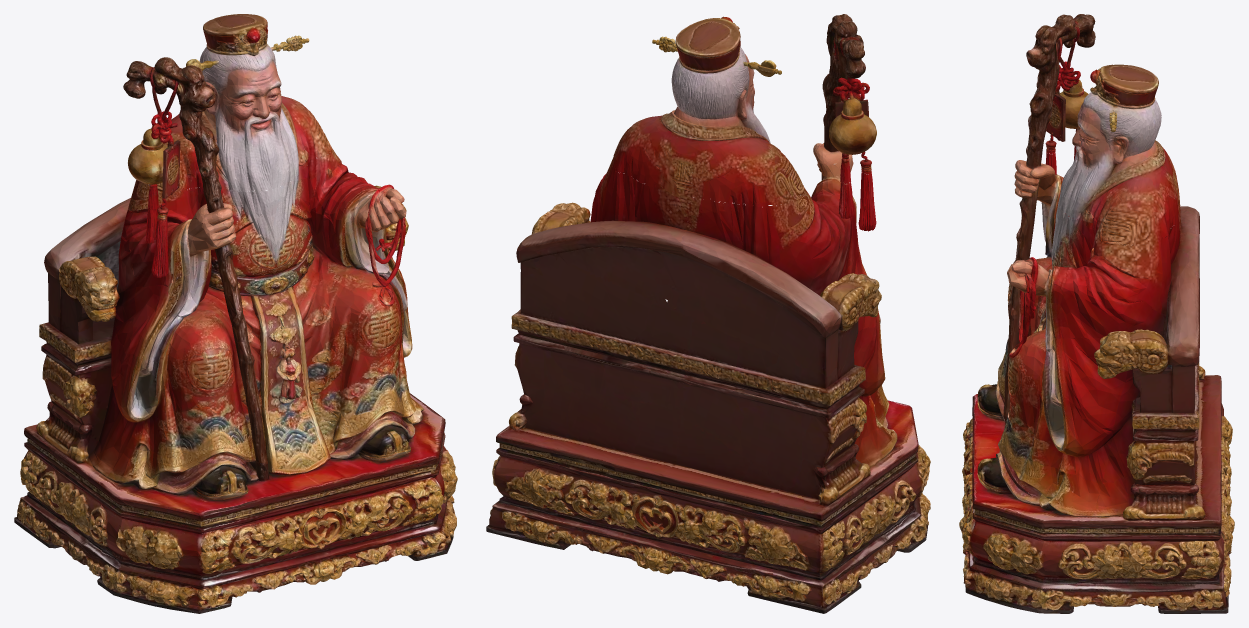
File: yuelao.glb
3 renders of one model, left to right at view 1: azimuth 30°, elevation 25°; view 2: azimuth 150°, elevation 25°; view 3: azimuth 270°, elevation 25°, orthographic. The views are drawn at different scales.
Parts seen in each view (by area): view 1: tripo_node_7627f07e-c915-458e-b8f2-cb89d6938b76; view 2: tripo_node_7627f07e-c915-458e-b8f2-cb89d6938b76; view 3: tripo_node_7627f07e-c915-458e-b8f2-cb89d6938b76.
Boxes of the visible parts, x1,y1,x2,y2 form: tripo_node_7627f07e-c915-458e-b8f2-cb89d6938b76: (14,14,457,613); tripo_node_7627f07e-c915-458e-b8f2-cb89d6938b76: (486,14,930,613); tripo_node_7627f07e-c915-458e-b8f2-cb89d6938b76: (959,14,1234,613).
Size of the model in its own units: 0.6894 by 0.9779 by 0.5142.
Materials: 1 (1 with a texture image).
